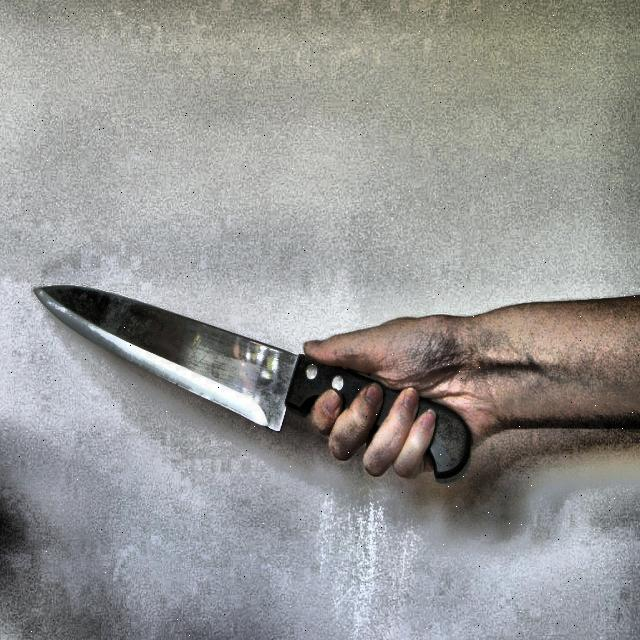knife: (34, 284, 470, 480)
